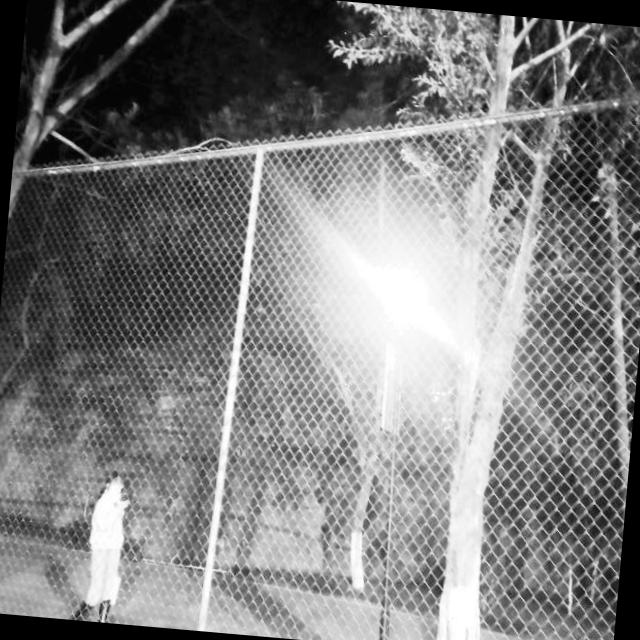Light: (345, 266, 428, 640)
Tree: (407, 11, 578, 640), (2, 0, 141, 288)
